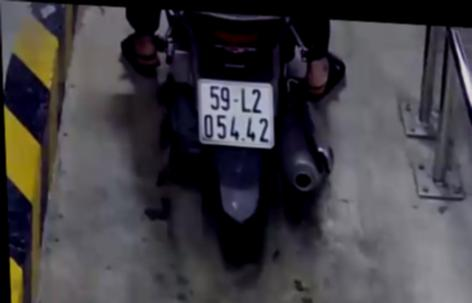License_Plate: (189, 72, 281, 156)
